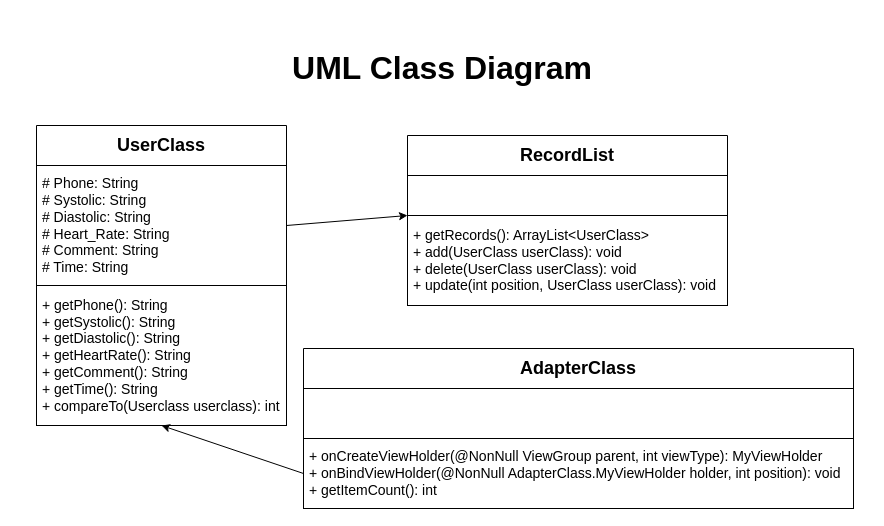
Image size: 884x526. Some labels were removed from this diagram. The shapes that lost their labels are listed below. From the top down, each one's centre as x and y in pixels, then its label:
At point 567,195: "# arrayList: ArrayList<UserClass>".
At point 578,413: "# context: Context # arrayList: ArrayList<UserClass>".
